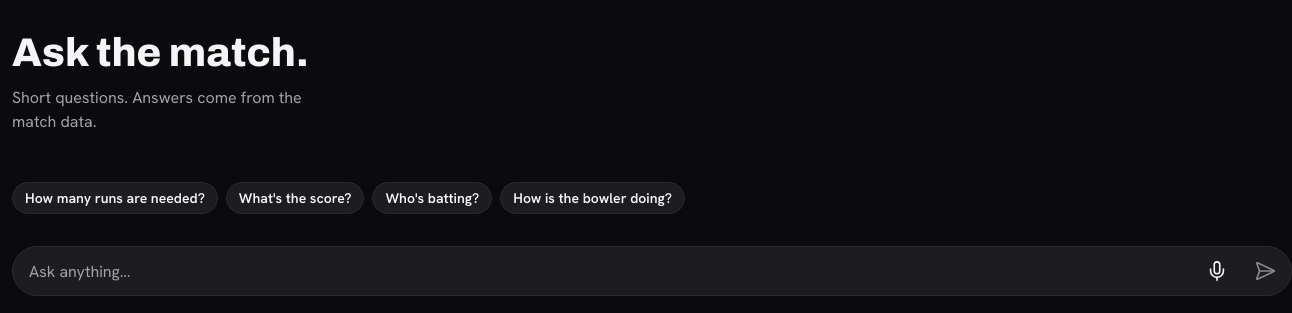
Test case: AskTab › answers "what is X" from the rulebook, in the chosen language
This screenshot has width=1292, height=313.
Type "what is a free hit?" into the field.
click(610, 271); type("what is a free hit?")  # box x1=29 y1=247 x2=1191 y2=295
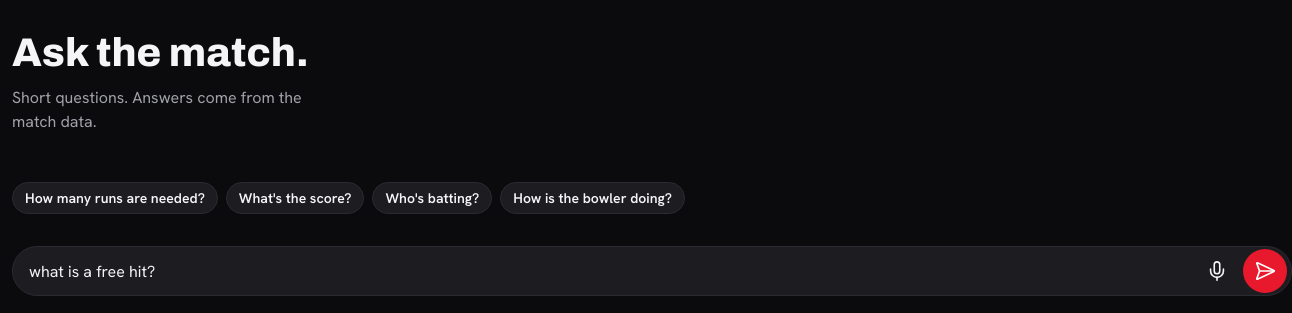
Submit the form, box x1=12 y1=246 x2=1291 y2=296
Wait 1300 ms
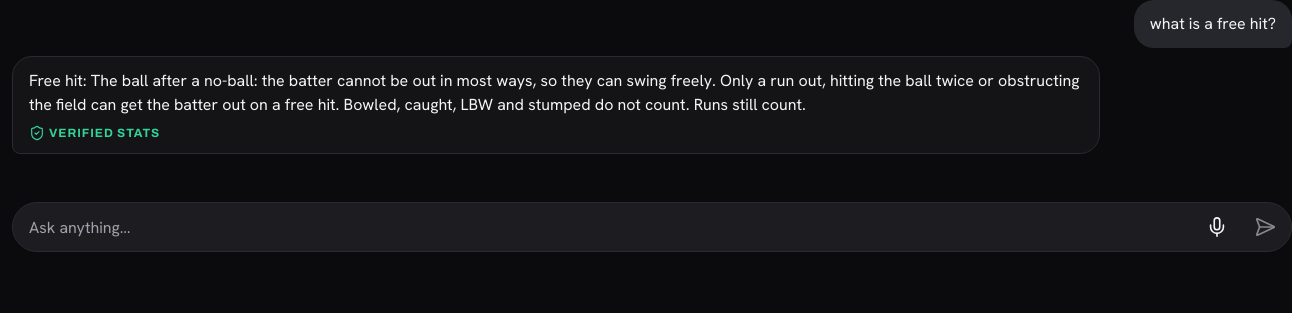
Check: the text "Free hit:" is shown, box x1=29 y1=70 x2=1079 y2=115
